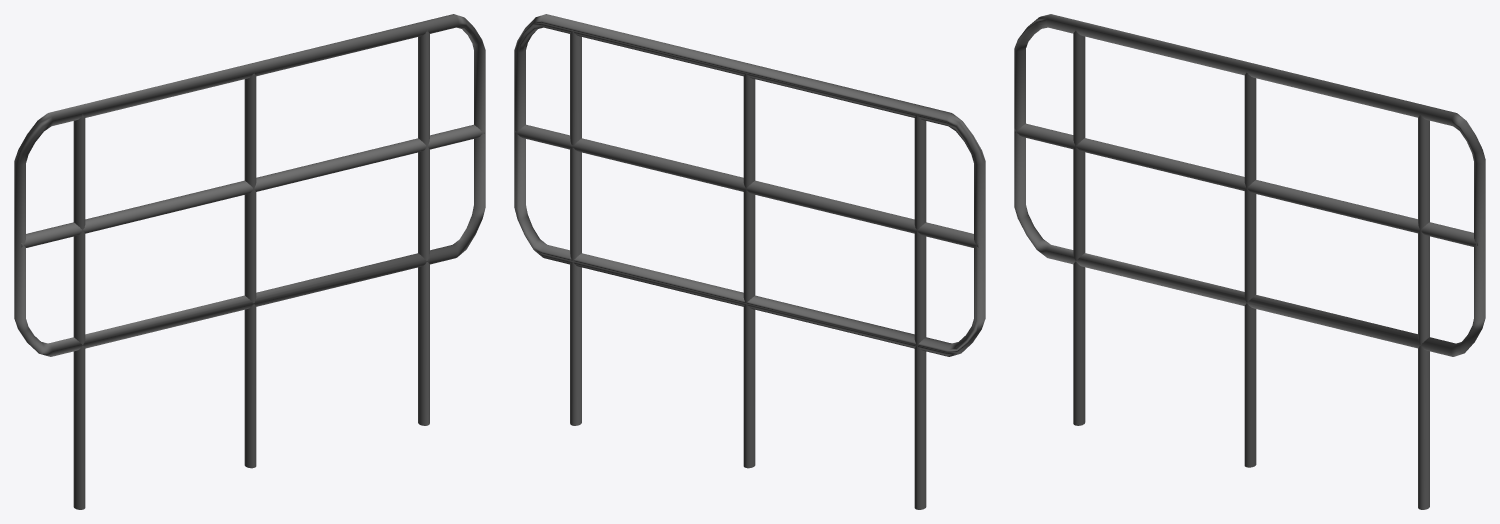
Rendered from Barrera_De_Security.fbx.
3 views of the same model, side by side, from view 1: azimuth 30°, elevation 25°; view 2: azimuth 150°, elevation 25°; view 3: azimuth 330°, elevation 25° (orthographic).
Parts seen in each view (by area): view 1: Barrera_De_Security; view 2: Barrera_De_Security; view 3: Barrera_De_Security.
Part boxes in pixels (x1,y1,x2,y2): Barrera_De_Security: (14,14,485,509); Barrera_De_Security: (514,14,985,509); Barrera_De_Security: (1014,14,1485,509).
Size of the model in its own units: 3.78 by 3.09 by 0.0971.
1 material, 1 textured.
